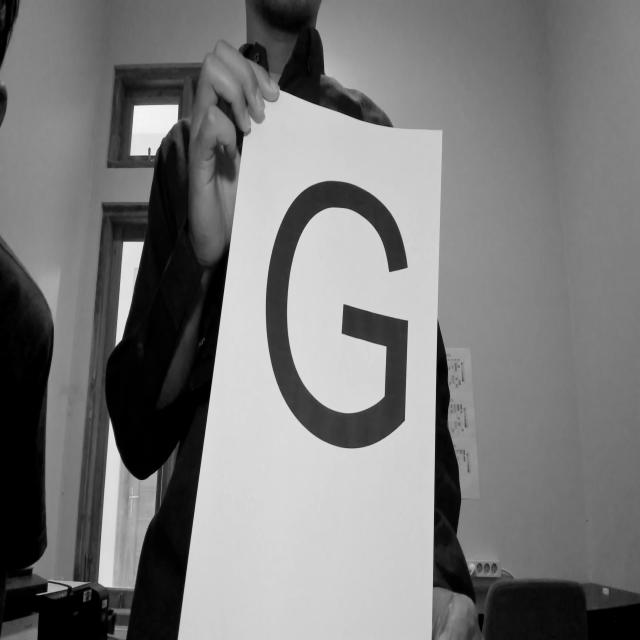g: (254, 160, 416, 462)
